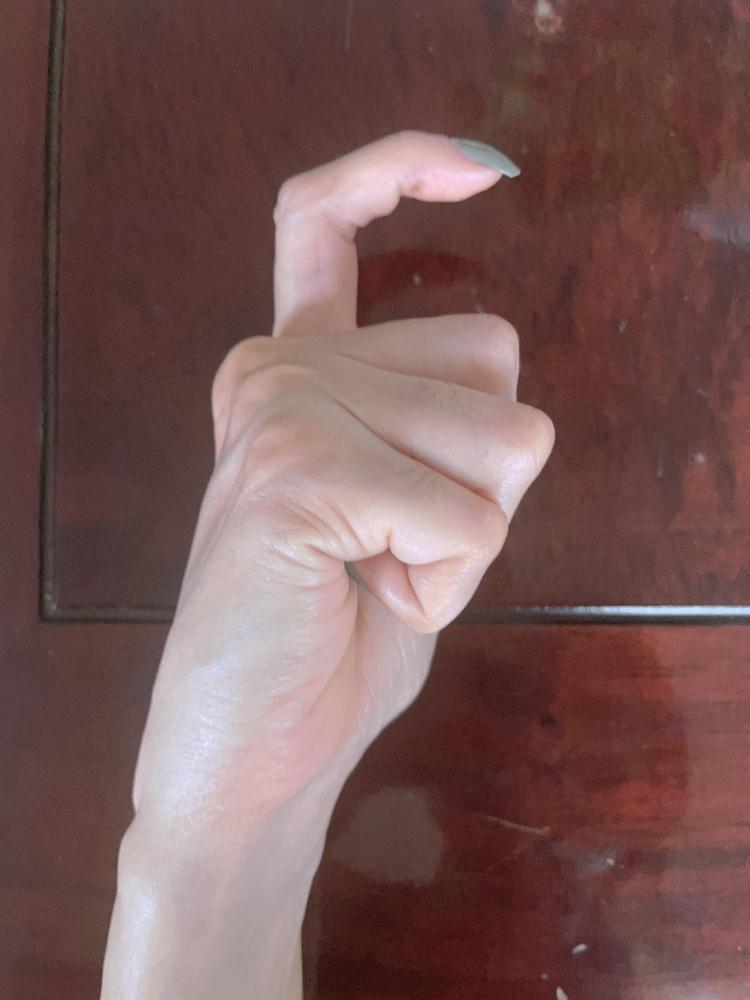x: (180, 127, 556, 853)
